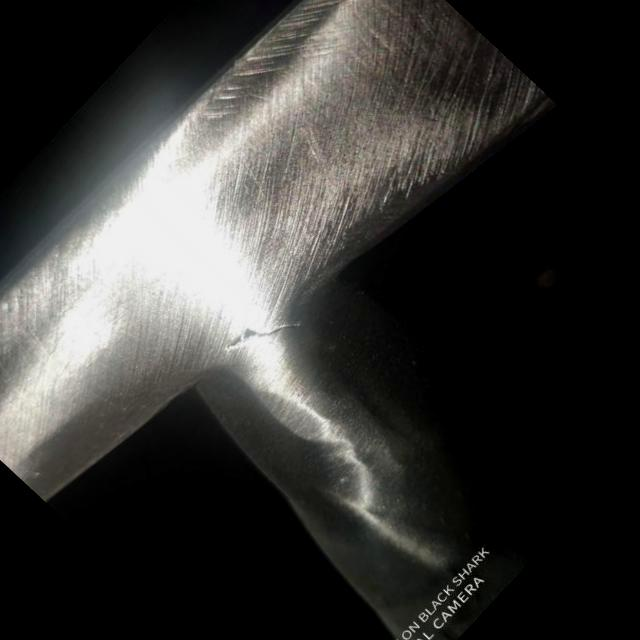defect: (225, 322, 305, 352)
